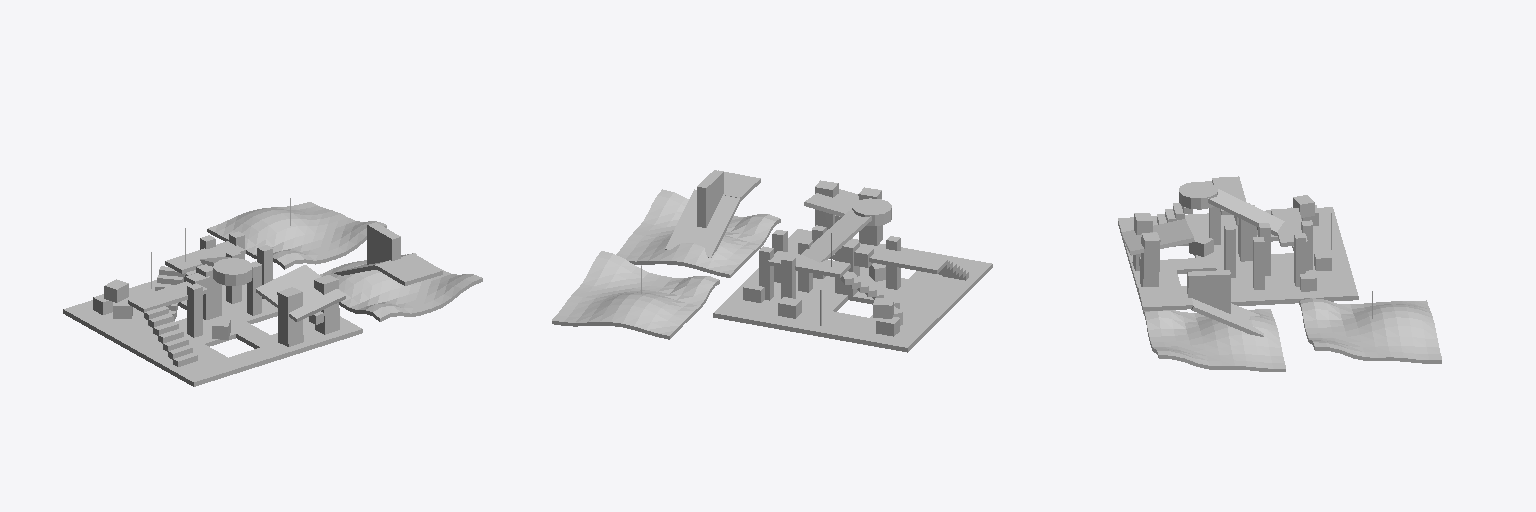
File: nav_test.obj
3 views of the same model, side by side, from view 1: azimuth 30°, elevation 25°; view 2: azimuth 150°, elevation 25°; view 3: azimuth 270°, elevation 25° (orthographic).
Parts seen in each view (by area): view 1: nav_test.obj; view 2: nav_test.obj; view 3: nav_test.obj.
Boxes of the visible parts, x1,y1,x2,y2 form: nav_test.obj: [63, 198, 482, 386]; nav_test.obj: [552, 170, 992, 352]; nav_test.obj: [1118, 176, 1441, 371].
Bounding box in the file's own units: 91.38 × 21.88 × 77.35.